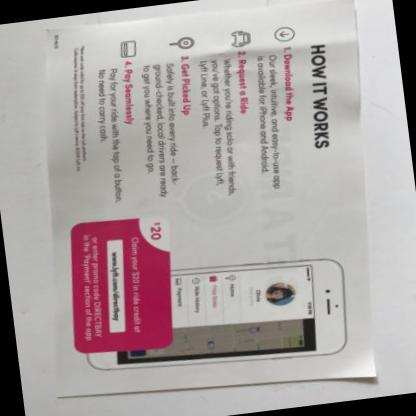Paper: (45, 0, 374, 397)
